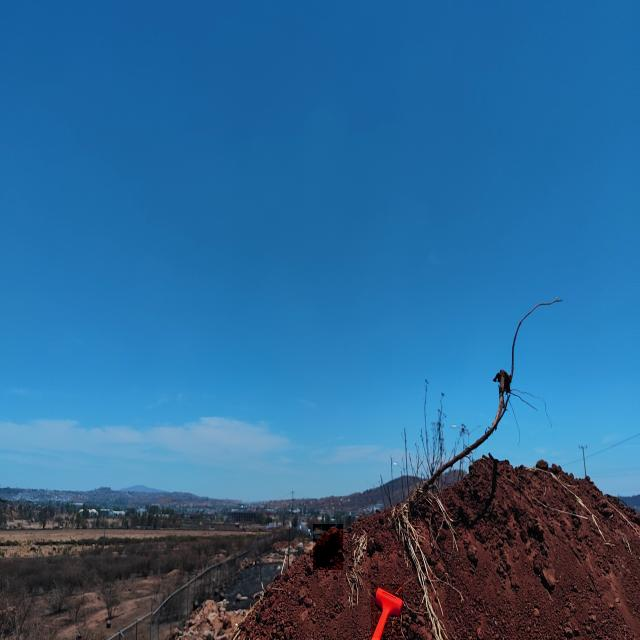Orange_hammer: (371, 584, 403, 638)
rock: (313, 524, 343, 570)
